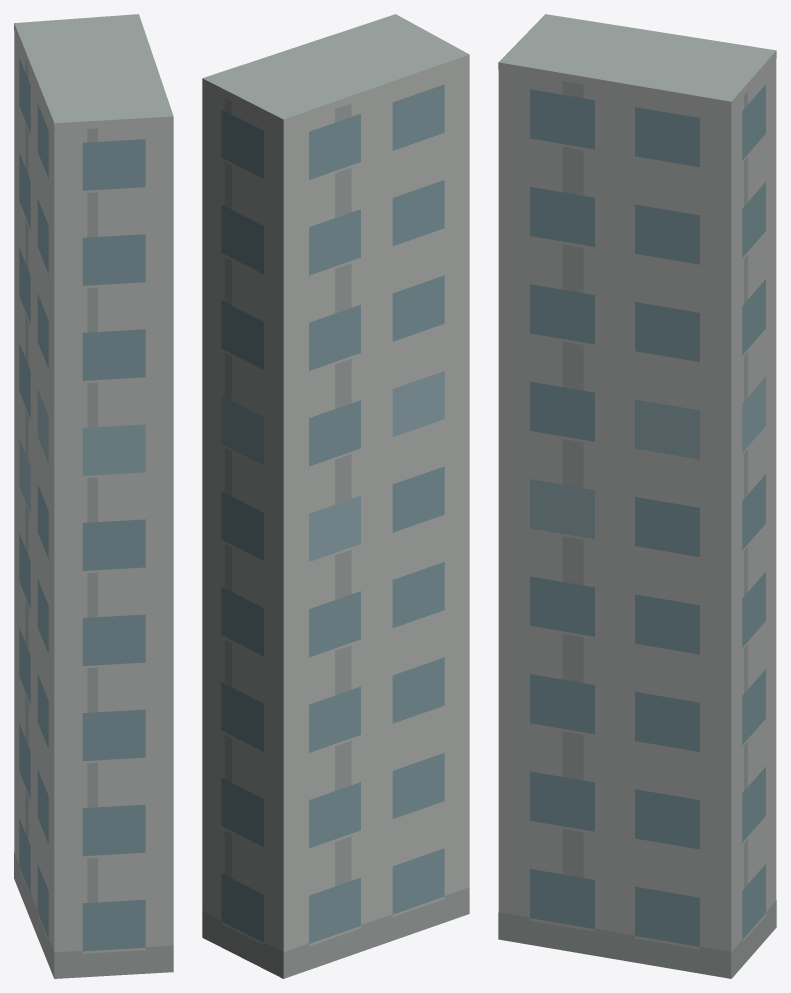
Rendered from survey-upis-32655564.glb.
3 views of the same model, side by side, from view 1: azimuth 30°, elevation 25°; view 2: azimuth 150°, elevation 25°; view 3: azimuth 270°, elevation 25° (orthographic). The views are drawn at different scales.
Parts seen in each view (by area): view 1: survey-upis-32655564.tmp; view 2: survey-upis-32655564.tmp; view 3: survey-upis-32655564.tmp.
Part boxes in pixels (x1=…): survey-upis-32655564.tmp: x1=14, y1=14, x2=173, y2=978; survey-upis-32655564.tmp: x1=202, y1=14, x2=469, y2=978; survey-upis-32655564.tmp: x1=498, y1=14, x2=776, y2=978.
Size of the model in its own units: 5.9 by 27.45 by 7.89.
